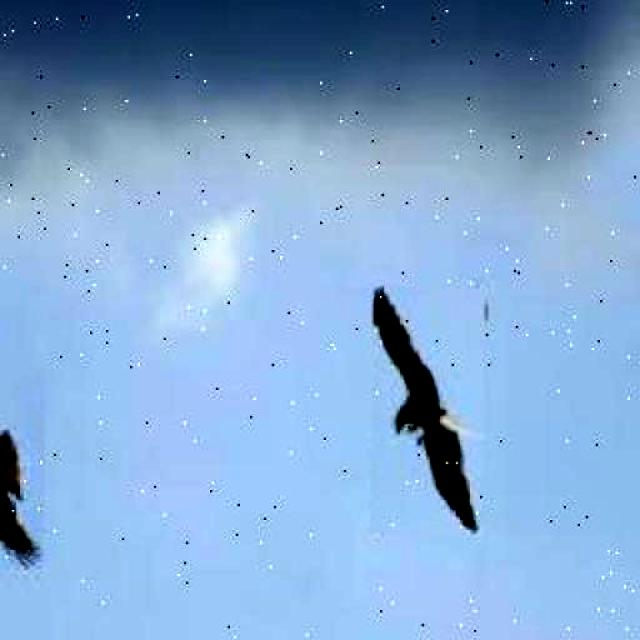airplane: (368, 285, 485, 535), (0, 368, 45, 569)
